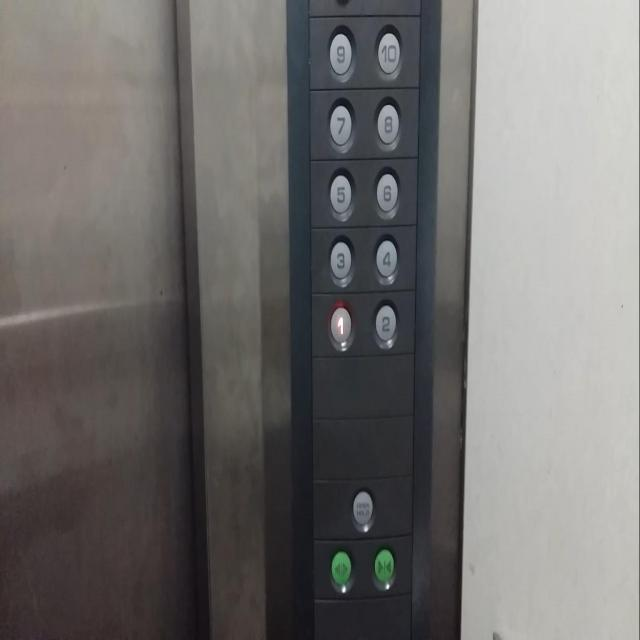1: (323, 295, 358, 356)
10: (370, 19, 406, 83)
2: (368, 294, 402, 354)
3: (324, 229, 359, 293)
4: (368, 227, 403, 290)
5: (323, 162, 359, 225)
6: (368, 160, 404, 223)
7: (323, 92, 359, 156)
8: (369, 92, 405, 155)
9: (323, 20, 358, 83)
close: (369, 540, 398, 593)
open: (326, 542, 356, 596)
text_open: (348, 481, 377, 534)
